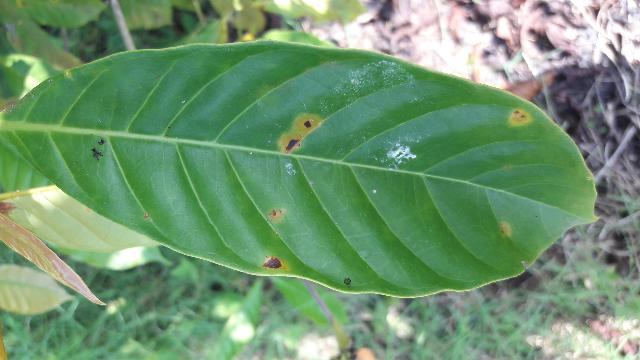rust_level_2: (0, 42, 600, 296)
